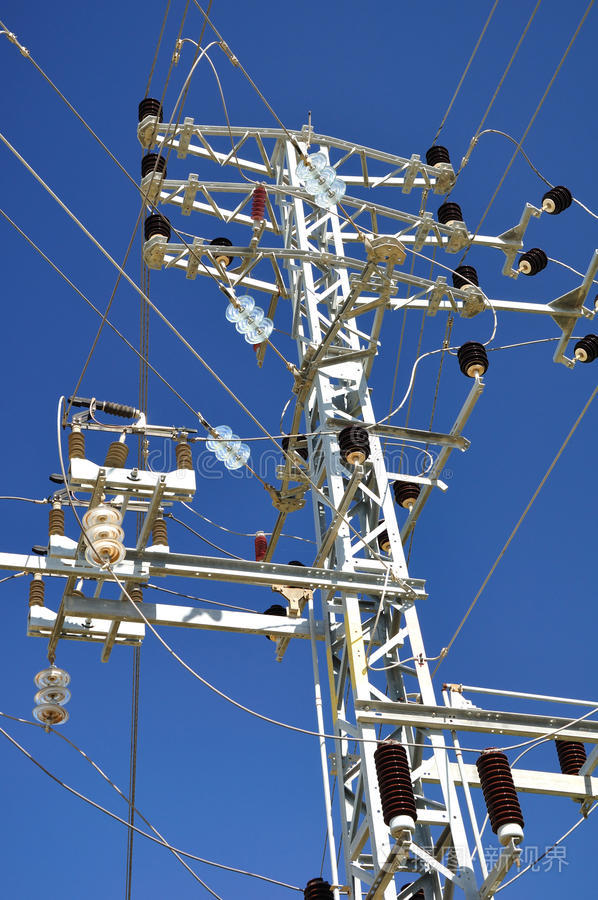insulator: (80, 503, 126, 569), (295, 148, 344, 209), (30, 664, 73, 728), (223, 293, 271, 348), (202, 421, 251, 472)
